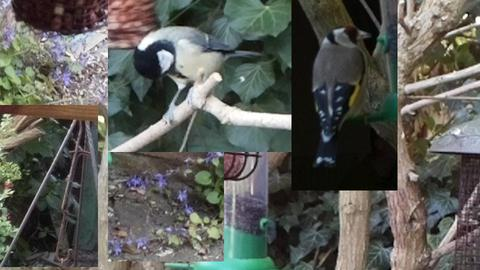goldfinch: (311, 25, 372, 168)
great tit: (133, 25, 266, 127)
